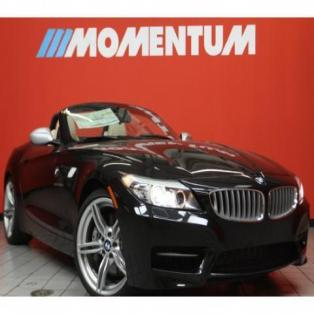Auto: (1, 101, 310, 296)
